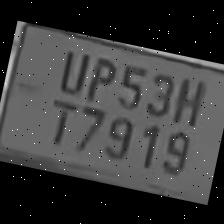1: (130, 114, 165, 170)
3: (140, 64, 178, 119)
5: (108, 56, 150, 110)
7: (66, 97, 107, 156)
9: (97, 105, 138, 162), (154, 122, 195, 176)
H: (166, 68, 208, 127)
P: (80, 48, 120, 104)
T: (38, 92, 80, 148)
U: (52, 41, 92, 98)
